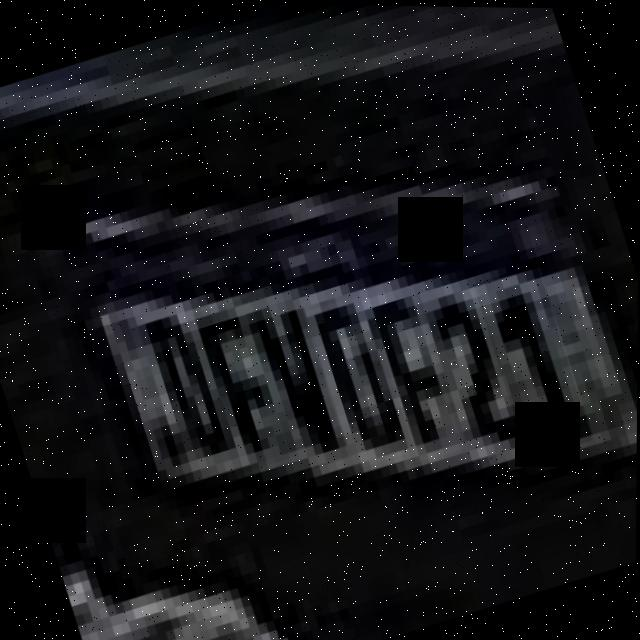0: (306, 294, 411, 469)
1: (472, 262, 595, 459)
F: (193, 295, 300, 473), (366, 283, 466, 462)
V: (246, 296, 351, 474)
